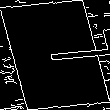L_W: (9, 36, 101, 74)
